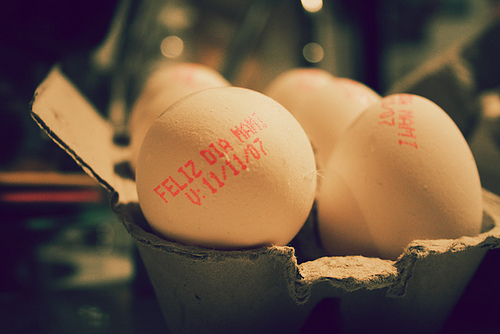egg: (130, 64, 489, 246)
